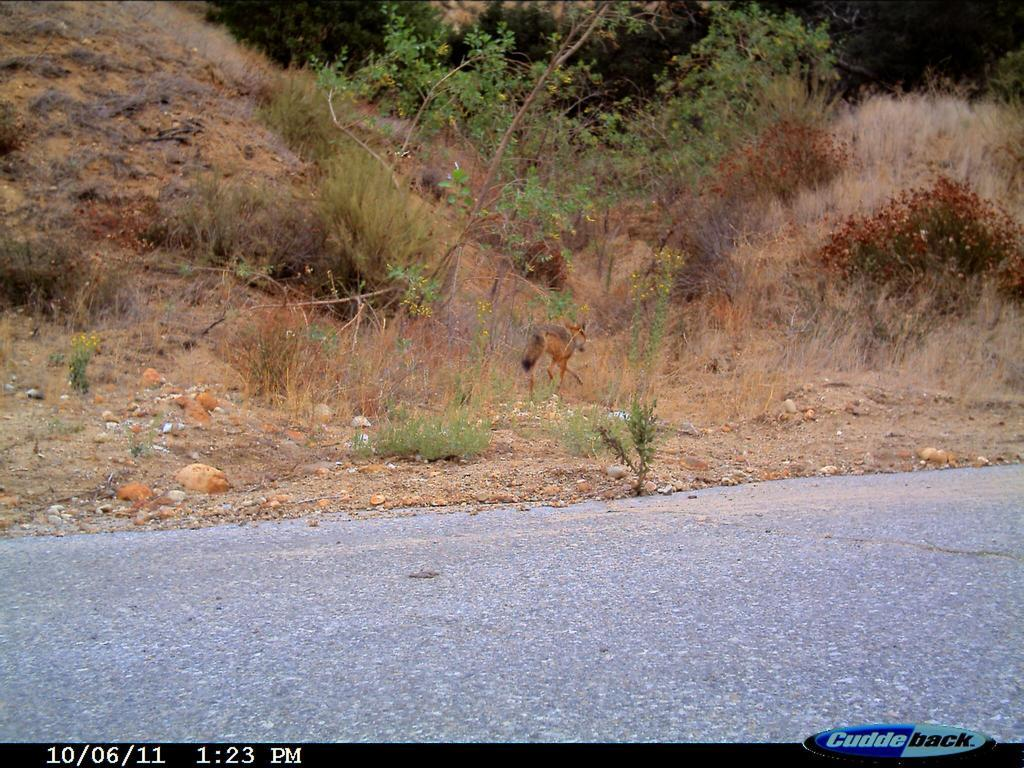coyote: (511, 306, 601, 393)
